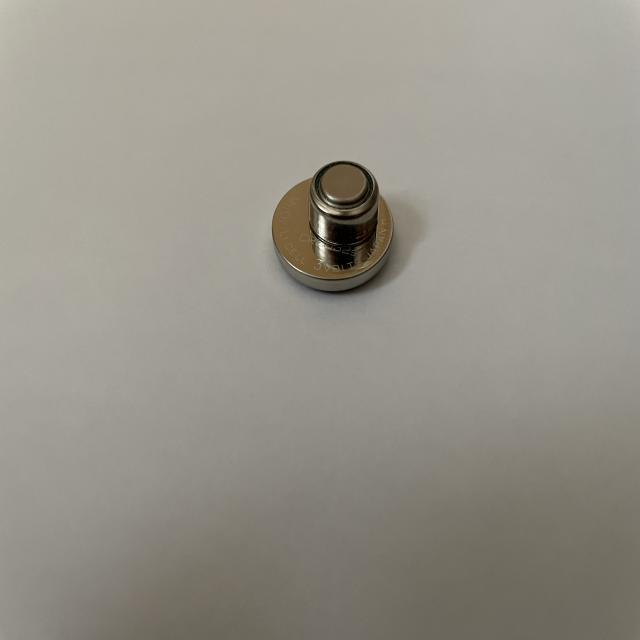COIN: (270, 176, 395, 294), (308, 158, 383, 243)
